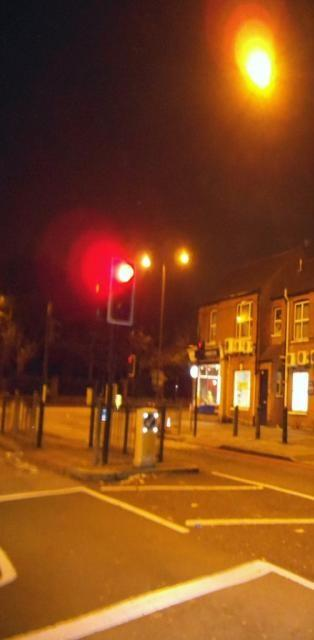red_light: (108, 258, 136, 324)
